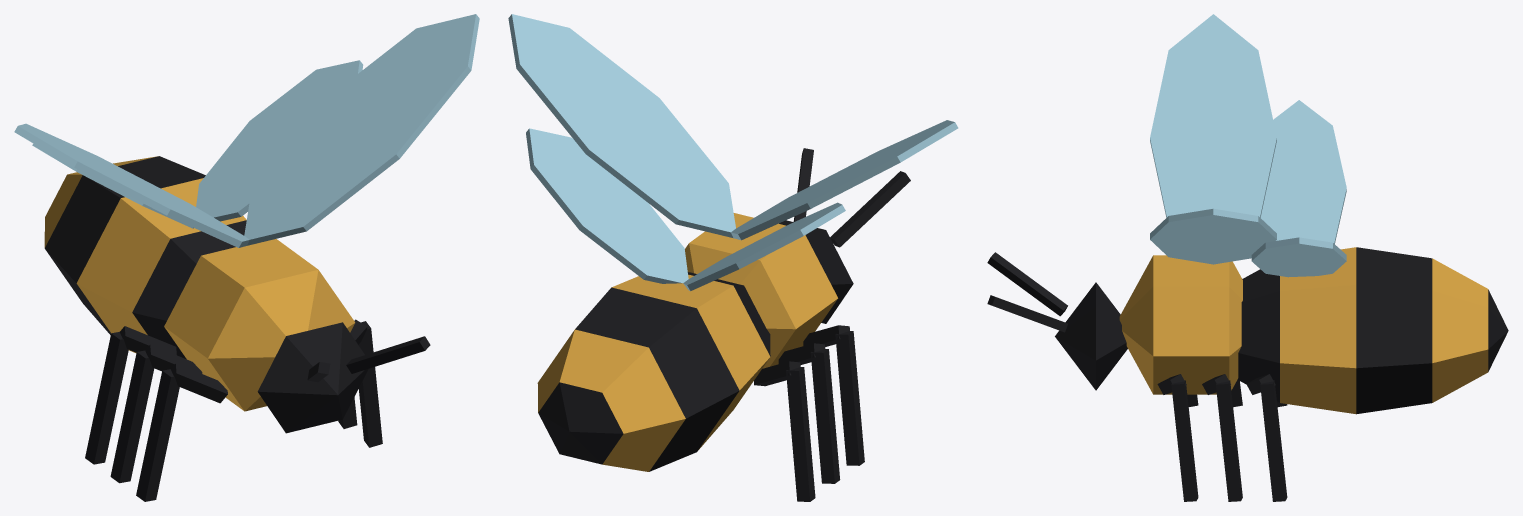
Rendered from GN_Honeybee_01.glb.
3 views of the same model, side by side, from view 1: azimuth 30°, elevation 25°; view 2: azimuth 150°, elevation 25°; view 3: azimuth 270°, elevation 25° (orthographic). The views are drawn at different scales.
Parts seen in each view (by area): view 1: GN_Honeybee_01; view 2: GN_Honeybee_01; view 3: GN_Honeybee_01.
Part boxes in pixels (x1=…): GN_Honeybee_01: x1=14, y1=14, x2=479, y2=501; GN_Honeybee_01: x1=508, y1=14, x2=958, y2=501; GN_Honeybee_01: x1=987, y1=14, x2=1508, y2=501.
Size of the model in its own units: 0.0147 by 0.0119 by 0.0164.
Materials: 1 (1 with a texture image).
